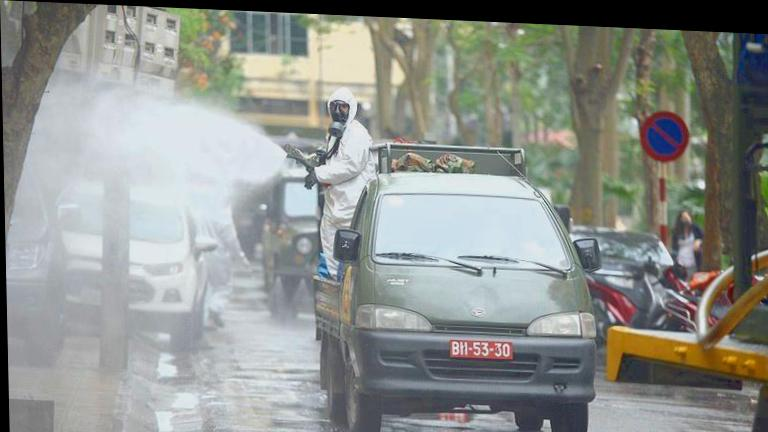License_Plate: (449, 337, 514, 366)
